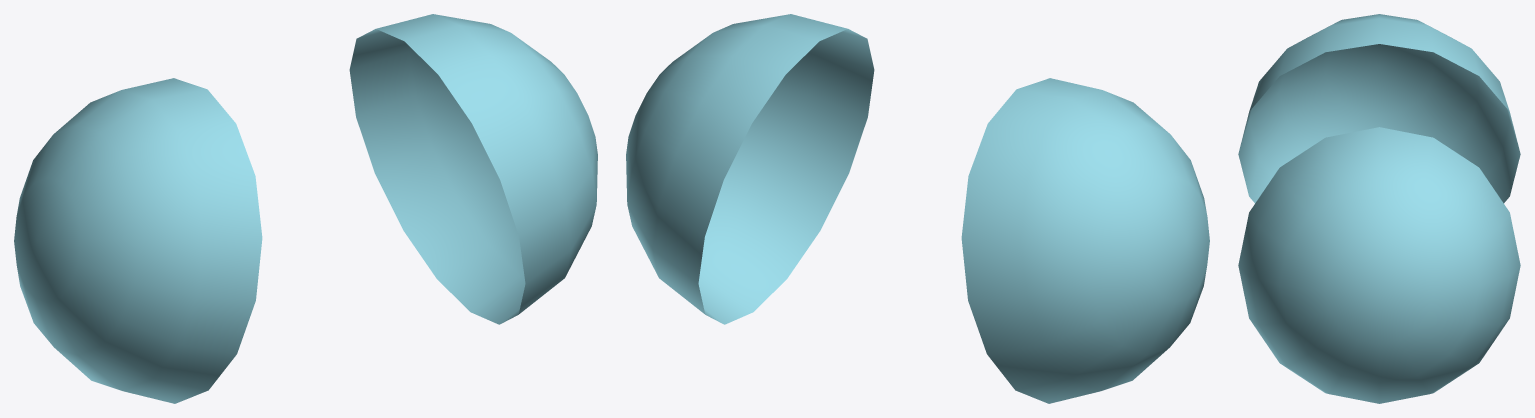
Rendered from Shrimp_Eye_Anomalis.fbx.
3 views of the same model, side by side, from view 1: azimuth 30°, elevation 25°; view 2: azimuth 150°, elevation 25°; view 3: azimuth 270°, elevation 25° (orthographic). The views are drawn at different scales.
Parts seen in each view (by area): view 1: Eye_low; view 2: Eye_low; view 3: Eye_low.
Boxes of the visible parts, bbox=[...] form: Eye_low: bbox=[14, 14, 597, 403]; Eye_low: bbox=[626, 14, 1209, 403]; Eye_low: bbox=[1238, 14, 1520, 403].
Bounding box in the file's own units: 29.41 × 15.01 × 15.32.
